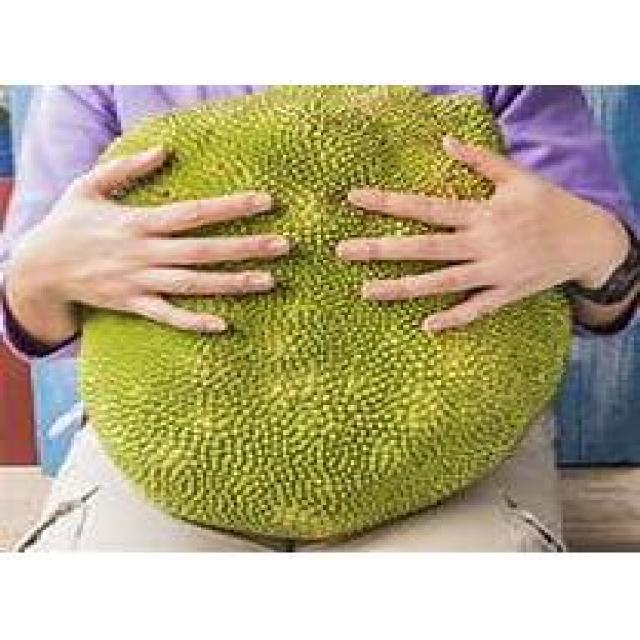fruit: (129, 203, 480, 475)
